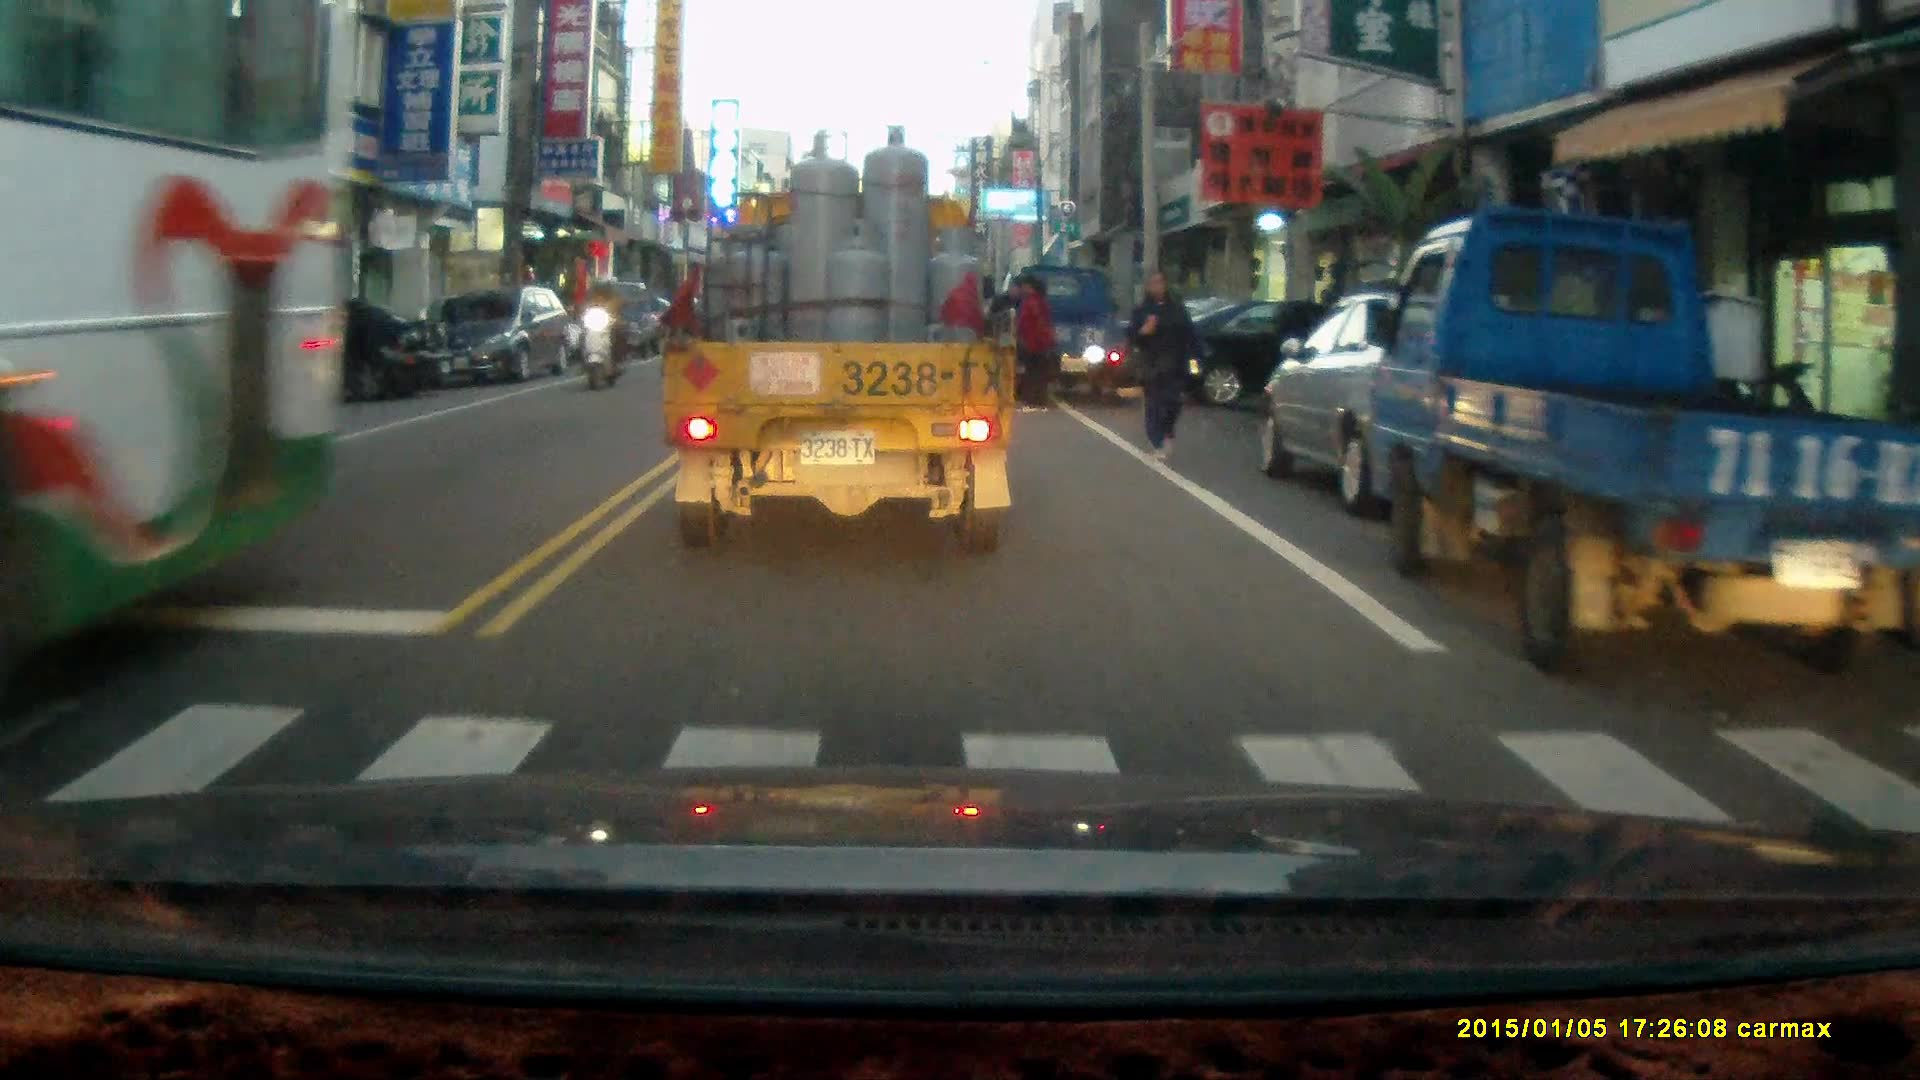pedestrian: (1125, 269, 1214, 461), (1014, 273, 1051, 408)
rider: (575, 268, 627, 388)
vehicle: (1362, 203, 1912, 678), (1, 2, 336, 665), (663, 123, 1019, 556), (1252, 284, 1574, 522), (1155, 293, 1421, 417), (1000, 261, 1142, 403), (434, 285, 575, 389), (578, 278, 673, 362)
